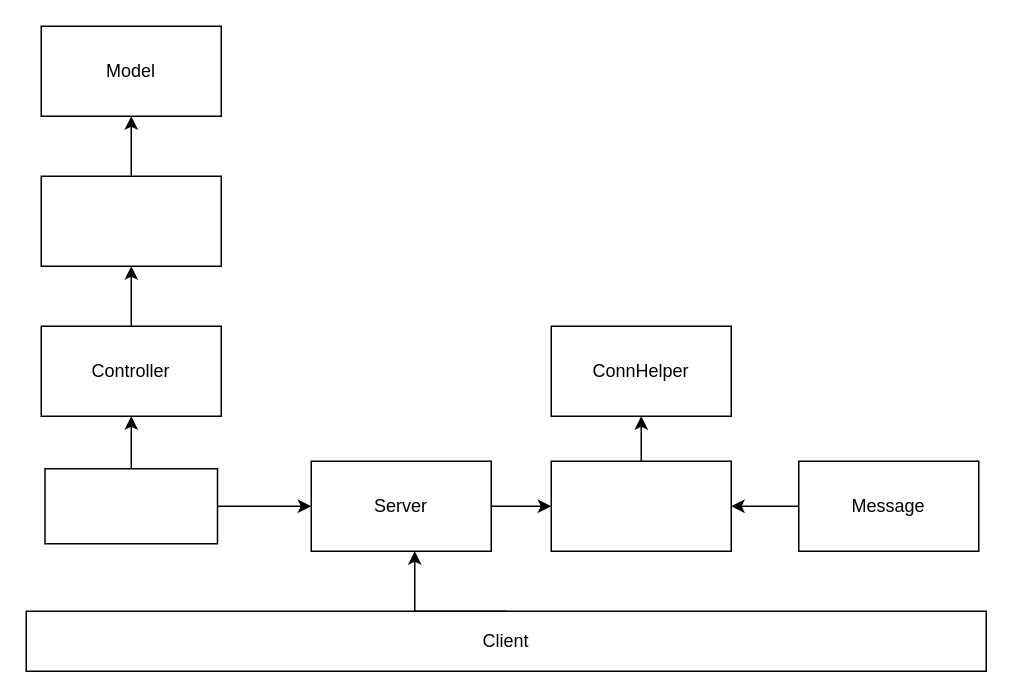
Image size: 1013x698. Some labels were removed from this diagram. The centre of each missing label's shape, as x and y in pixels:
ClientInstance: the point at 640,505
ControllerManager: the point at 131,505
DAO: the point at 130,220
